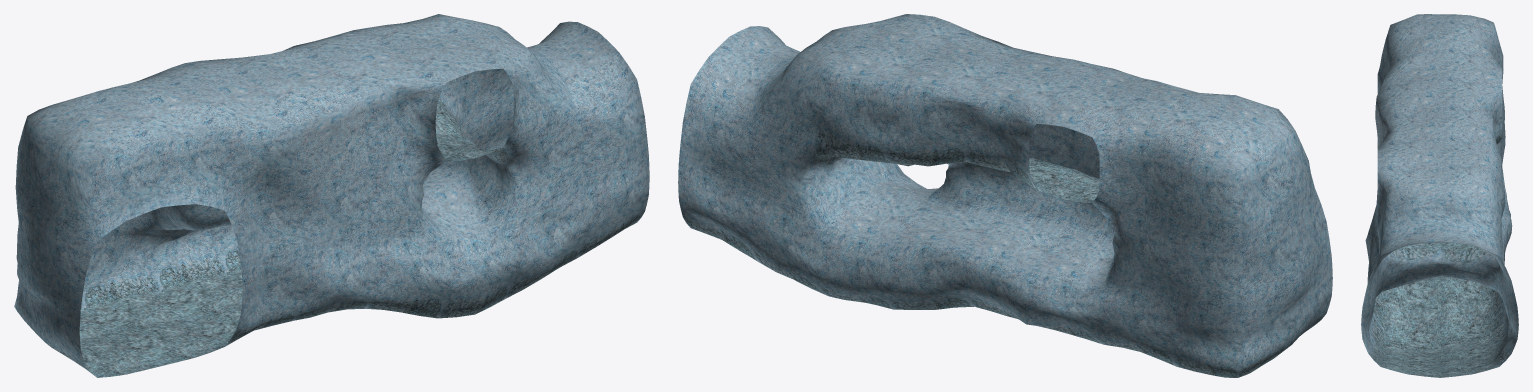
The model's file is thm_all_cave_flatland_s03_ice_r6_r6.fbx.
The picture shows the model from 3 angles, left to right: view 1: azimuth 30°, elevation 25°; view 2: azimuth 150°, elevation 25°; view 3: azimuth 270°, elevation 25°; orthographic projection. The views are drawn at different scales.
Visible parts, largest first — view 1: mesh_node; view 2: mesh_node; view 3: mesh_node.
Boxes of the visible parts, x1,y1,x2,y2 form: mesh_node: (14,14,649,377); mesh_node: (678,14,1332,377); mesh_node: (1361,14,1518,377).
Size of the model in its own units: 65.18 by 29.36 by 20.28.
